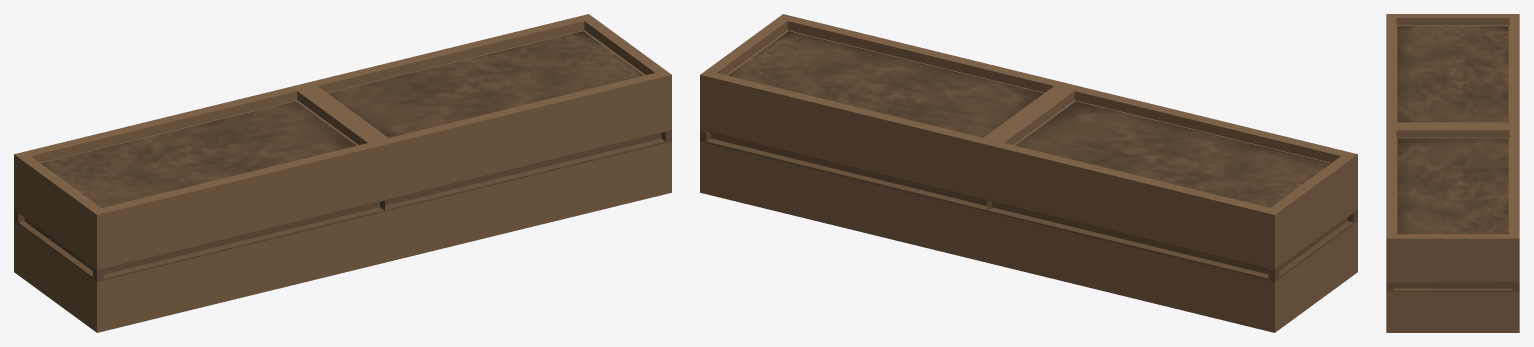
Rendered from planter.gltf.
The picture shows the model from 3 angles, left to right: view 1: azimuth 30°, elevation 25°; view 2: azimuth 150°, elevation 25°; view 3: azimuth 270°, elevation 25°; orthographic projection. The views are drawn at different scales.
Visible parts, largest first — view 1: Cube; view 2: Cube; view 3: Cube.
Part boxes in pixels (<box>): Cube: <box>14,14,671,332</box>; Cube: <box>700,14,1357,332</box>; Cube: <box>1386,14,1519,332</box>.
Bounding box in the file's own units: 7.99 × 1.57 × 2.
1 material, 1 textured.
